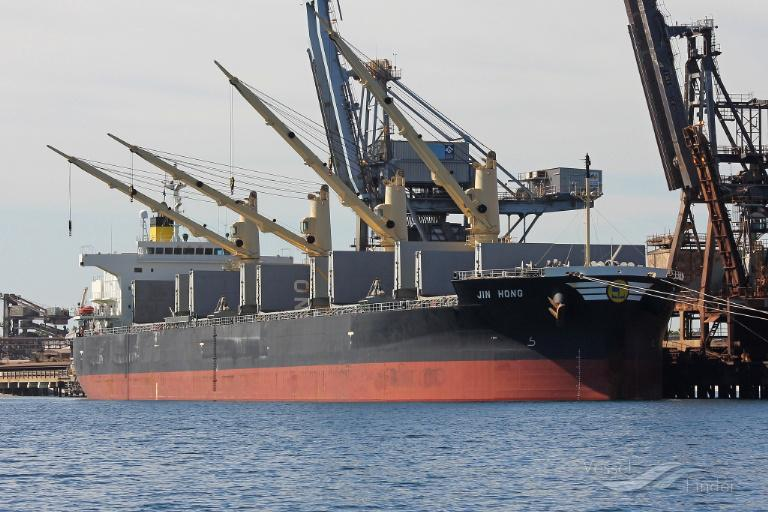OCR: (472, 285, 524, 304)
